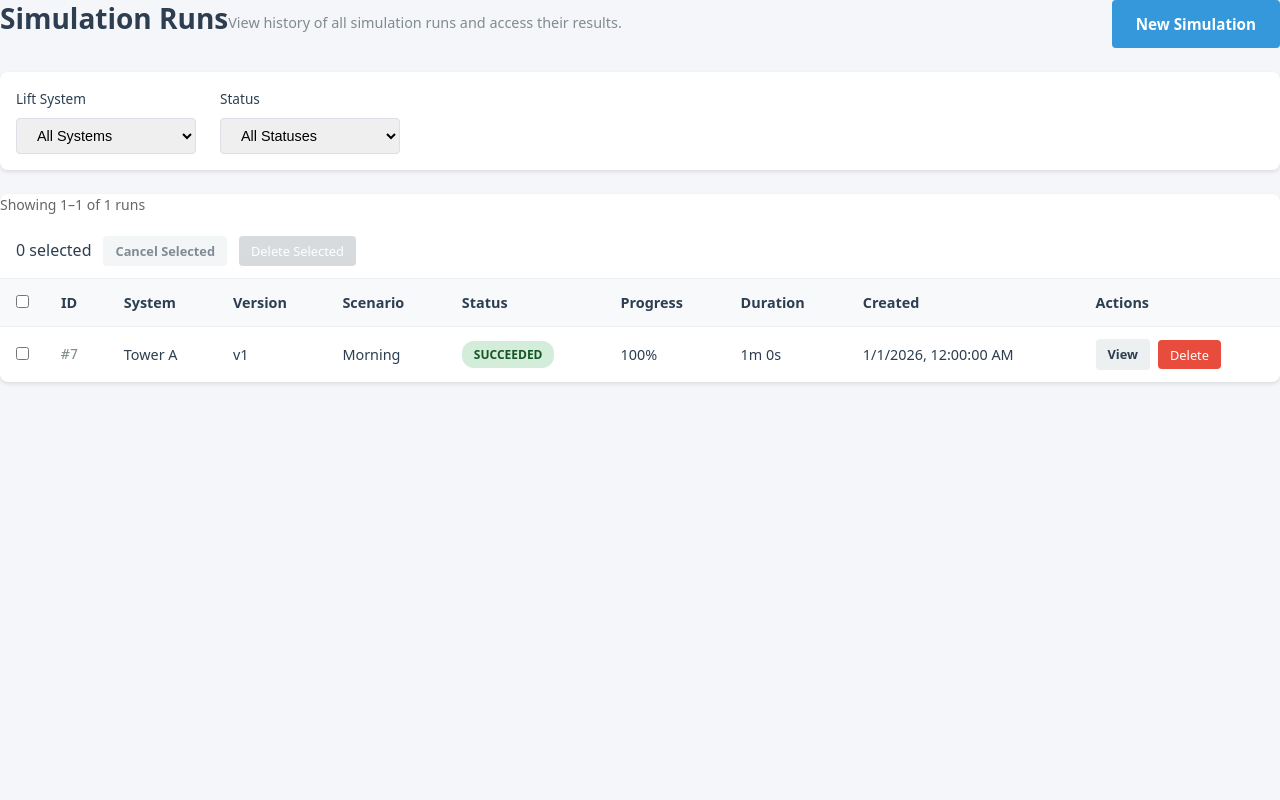
Scenario: SimulationRuns delete action › confirms then deletes a run and reloads the list with feedback
The width and height of the screenshot is (1280, 800).
Expected: the text "#7" is shown, [45,326,108,382]
Step 1. Click the button "Delete" → (1189, 354), box [1158,340,1221,369]
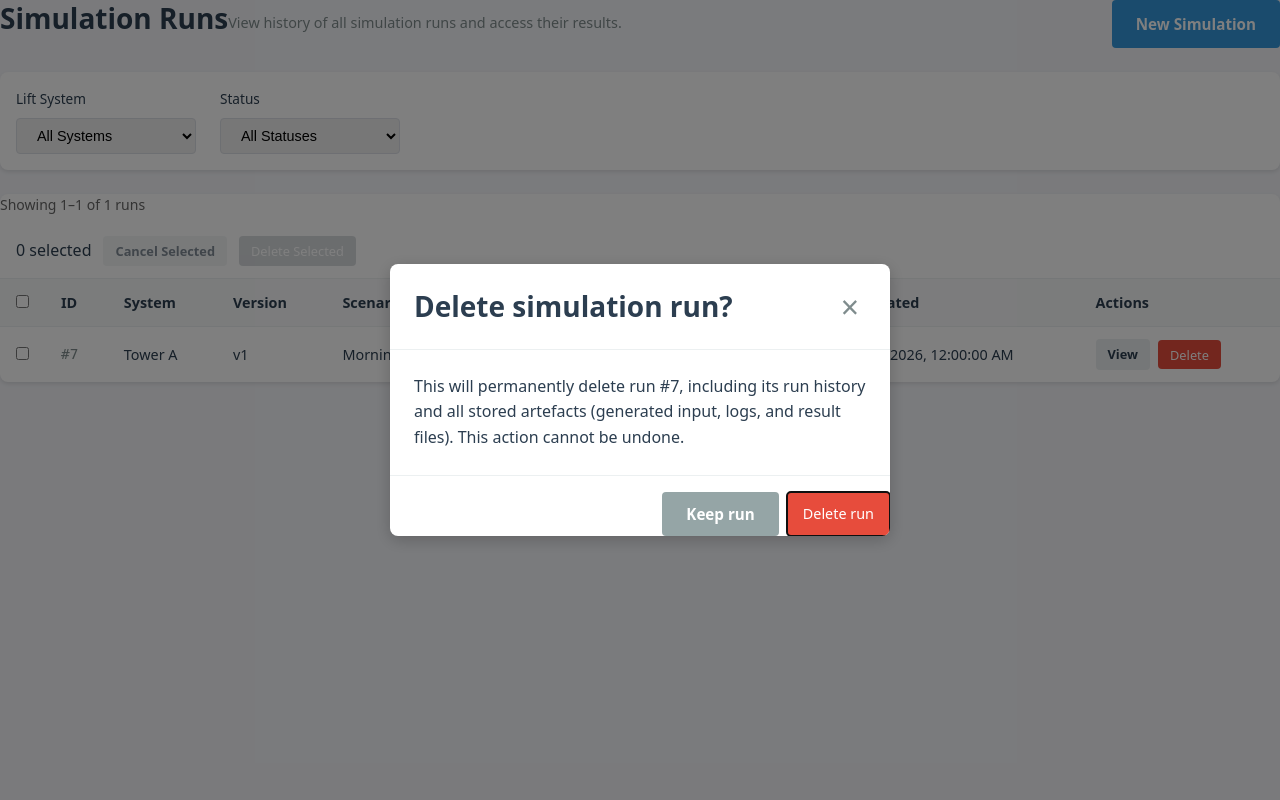
Result: the text "stored artefacts" is shown at [414,375,866,448]
Step 2. Click the button "Delete run" → (838, 514), box [787,492,890,536]
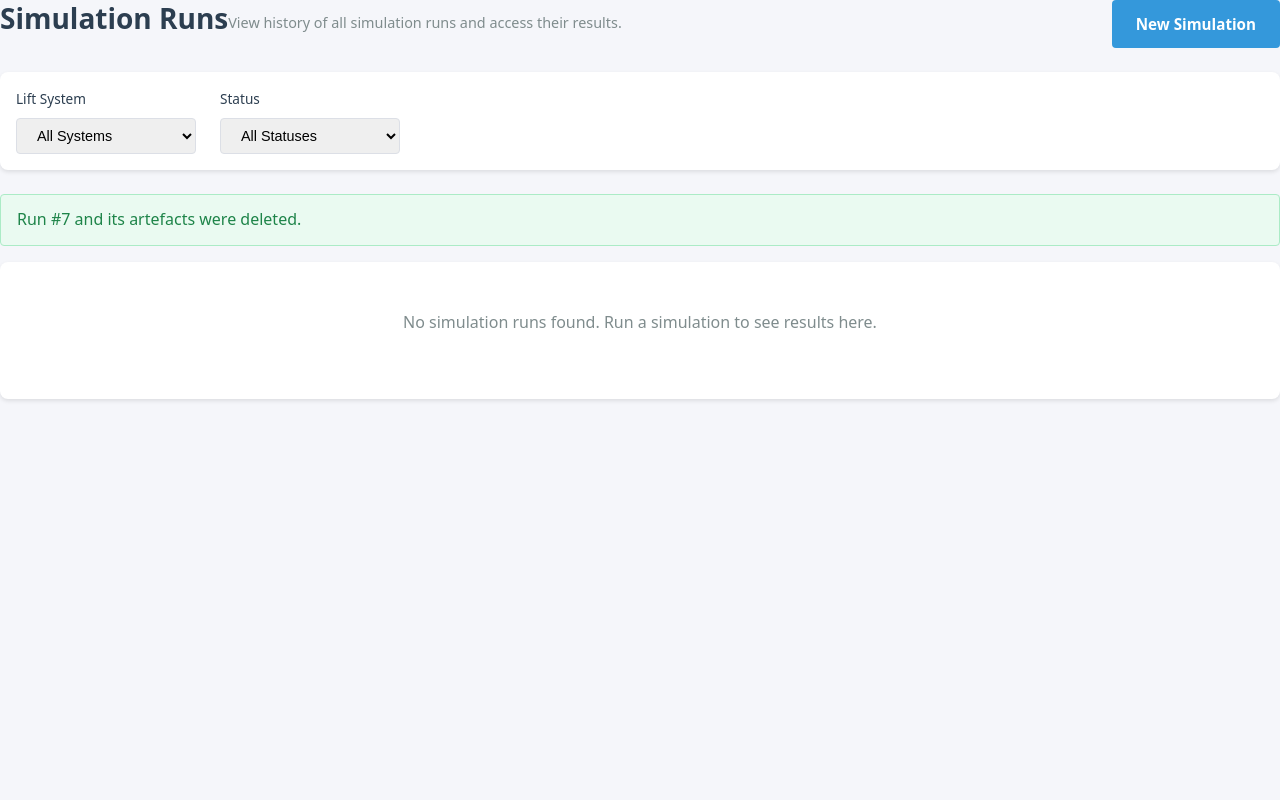
Result: the message reads "Run #7 and its artefacts were deleted." at [17,208,301,230]
